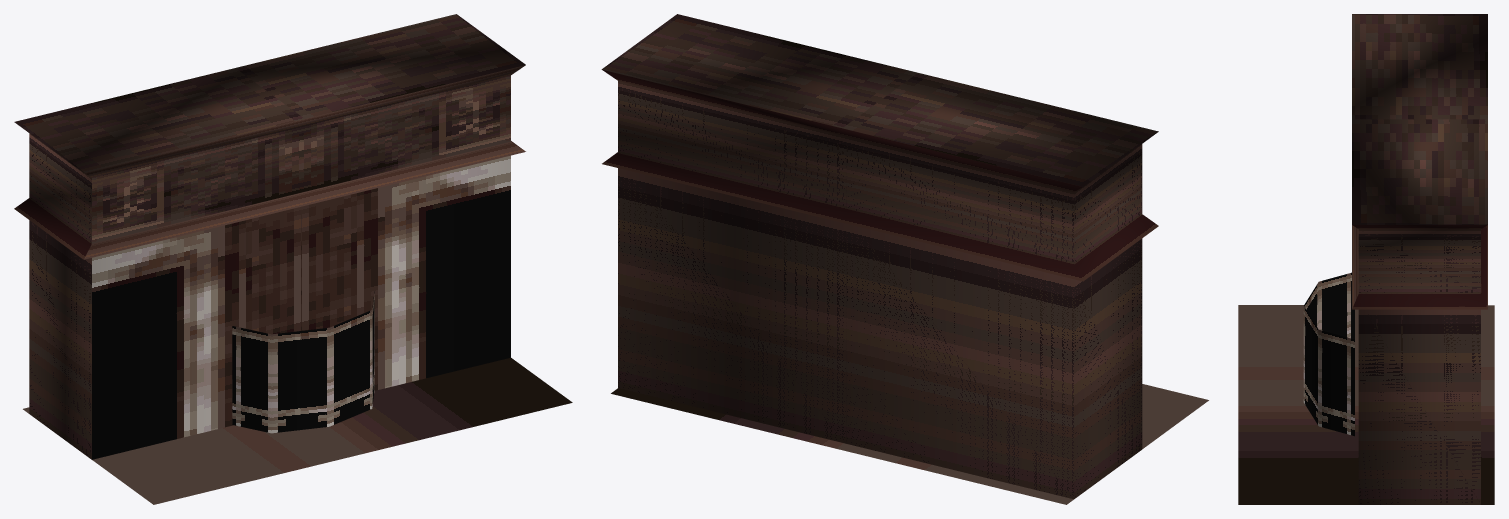
3 views of the same model, side by side, from view 1: azimuth 30°, elevation 25°; view 2: azimuth 150°, elevation 25°; view 3: azimuth 270°, elevation 25° (orthographic). The views are drawn at different scales.
Visible parts, largest first — view 1: 3172IMFY05_04; view 2: 3172IMFY05_04; view 3: 3172IMFY05_04.
Boxes of the visible parts, bbox=[...] form: 3172IMFY05_04: bbox=[14, 14, 572, 504]; 3172IMFY05_04: bbox=[601, 14, 1208, 504]; 3172IMFY05_04: bbox=[1238, 14, 1494, 504].
Size of the model in its own units: 1.84 by 1.16 by 0.9478.
3 materials, 3 textured.
